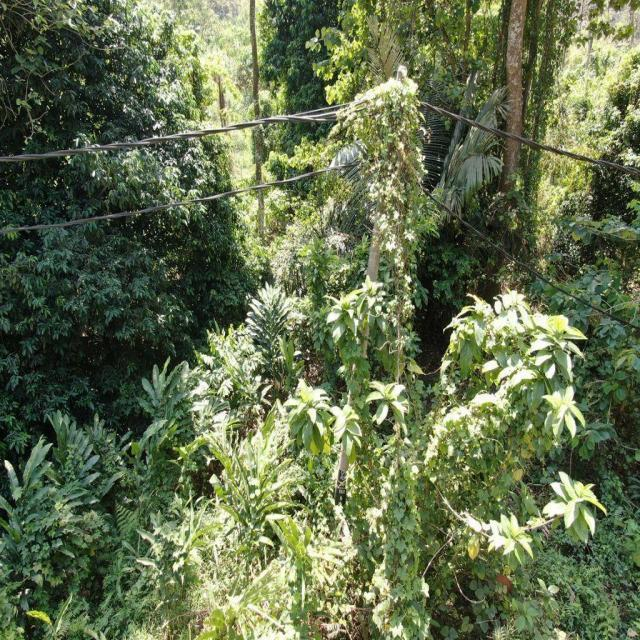critical vegetation: (331, 70, 432, 499)
